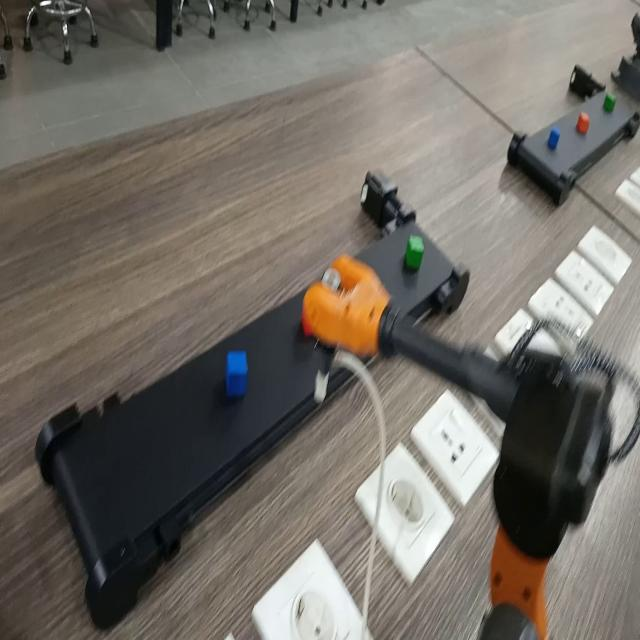cube: (225, 349, 250, 398), (404, 229, 425, 274), (574, 111, 593, 137), (601, 89, 617, 115), (549, 125, 562, 152)
